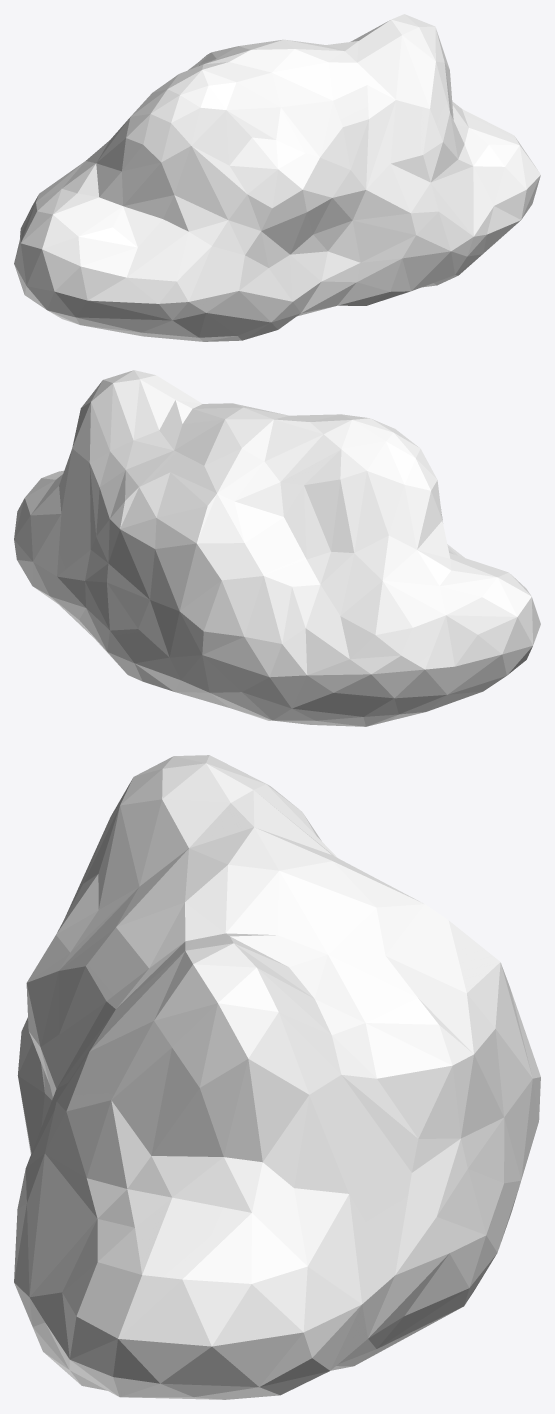
File: Cloud_03.fbx
3 views of the same model, one above another, from view 1: azimuth 30°, elevation 25°; view 2: azimuth 150°, elevation 25°; view 3: azimuth 270°, elevation 25° (orthographic). The views are drawn at different scales.
Parts seen in each view (by area): view 1: Cloud_03; view 2: Cloud_03; view 3: Cloud_03.
Boxes of the visible parts, x1,y1,x2,y2 form: Cloud_03: (14,14,540,341); Cloud_03: (14,370,540,726); Cloud_03: (14,755,540,1399).
Size of the model in its own units: 433 by 210 by 220.
